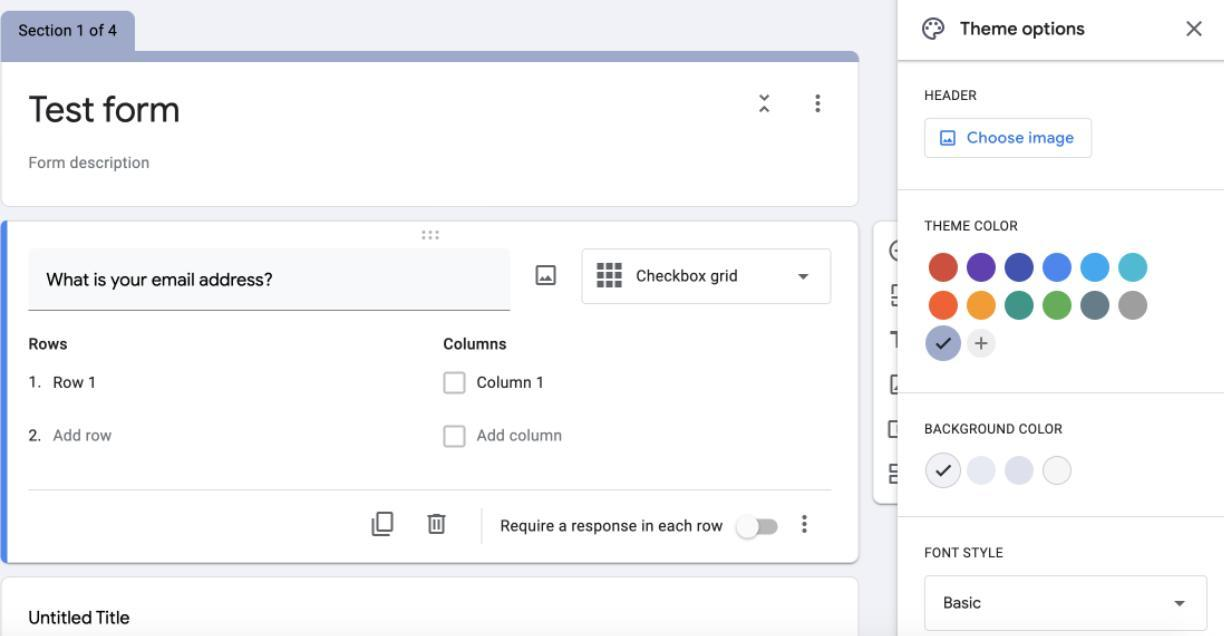button: (926, 115, 1098, 159)
checkbox: (443, 424, 468, 449), (444, 373, 467, 394)
dropdown: (927, 577, 1209, 628), (584, 251, 831, 306)
icon: (366, 507, 401, 543), (530, 262, 563, 293), (424, 512, 452, 542), (920, 16, 950, 44), (808, 90, 829, 119), (795, 512, 817, 538), (756, 92, 776, 116)
input: (32, 247, 510, 311)
label: (26, 91, 184, 136), (498, 515, 728, 542), (922, 415, 1081, 446), (922, 542, 1029, 571), (957, 18, 1092, 40), (922, 212, 1024, 235), (441, 331, 514, 360), (18, 331, 85, 358), (52, 423, 117, 450), (479, 372, 552, 396), (922, 85, 987, 111), (49, 370, 105, 399)
switch: (733, 510, 782, 544)
